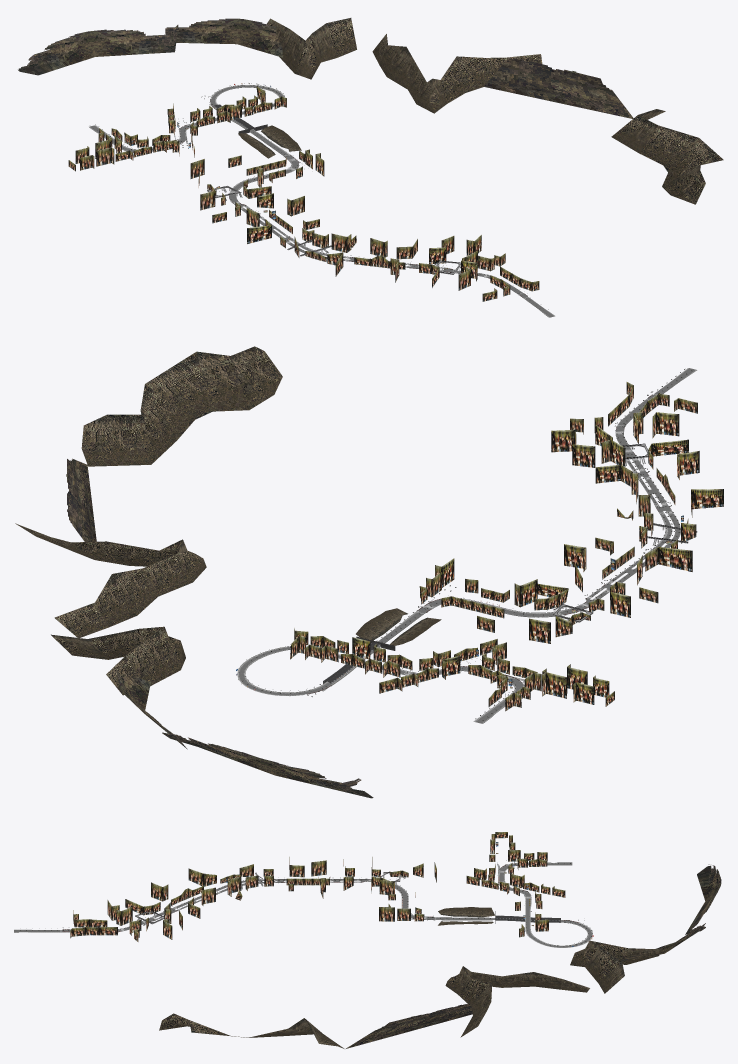
File: stage-lasv-env.glb
The picture shows the model from 3 angles, top to bottom: view 1: azimuth 30°, elevation 25°; view 2: azimuth 150°, elevation 25°; view 3: azimuth 270°, elevation 25°; orthographic projection. The views are drawn at different scales.
Visible parts, largest first — view 1: env part 1 chunk 4,-5, env part 1 chunk 3,-9, env part 1 chunk 4,-7, env part 1 chunk -2,-12, env part 1 chunk 1,-11, env part 1 chunk 0,-12, env part 3 chunk -3,-9, env part 3 chunk -1,-3, env part 3 chunk -2,-4, env part 3 chunk -1,-9, env part 3 chunk -4,-9, env part 3 chunk -2,-7 (+8 smaller); view 2: env part 1 chunk 4,-5, env part 1 chunk 3,-9, env part 1 chunk 1,-11, env part 3 chunk -2,-7, env part 3 chunk -1,-3, env part 1 chunk -2,-12, env part 3 chunk -1,-9, env part 1 chunk 4,-7, env part 3 chunk -3,-9, env part 3 chunk -4,-9, env part 3 chunk -2,-9, env part 3 chunk -1,-2 (+11 smaller); view 3: env part 1 chunk 3,-9, env part 1 chunk 1,-11, env part 1 chunk 4,-7, env part 1 chunk 4,-5, env part 1 chunk -2,-12, env part 3 chunk -2,-4, env part 3 chunk -1,-2, env part 1 chunk -1,-8, env part 3 chunk -3,-9, env part 3 chunk -1,-3, env part 3 chunk -2,-9, env part 3 chunk -2,-3 (+7 smaller).
Part boxes in pixels (<box>): env part 1 chunk 4,-5: <box>611,109,723,204</box>; env part 1 chunk 3,-9: <box>372,34,542,113</box>; env part 1 chunk 4,-7: <box>484,58,633,118</box>; env part 1 chunk -2,-12: <box>18,25,178,75</box>; env part 1 chunk 1,-11: <box>267,18,356,79</box>; env part 1 chunk 0,-12: <box>165,18,282,57</box>; env part 3 chunk -3,-9: <box>106,128,176,161</box>; env part 3 chunk -1,-3: <box>403,236,477,287</box>; env part 3 chunk -2,-4: <box>312,233,387,276</box>; env part 3 chunk -1,-9: <box>203,95,272,134</box>; env part 3 chunk -4,-9: <box>68,137,114,171</box>; env part 3 chunk -2,-7: <box>241,157,286,198</box>; env part 1 chunk 4,-5: <box>81,346,282,466</box>; env part 1 chunk 3,-9: <box>15,523,206,637</box>; env part 1 chunk 1,-11: <box>51,626,185,695</box>; env part 3 chunk -2,-7: <box>441,579,568,618</box>; env part 3 chunk -1,-3: <box>572,424,688,479</box>; env part 1 chunk -2,-12: <box>162,732,373,798</box>; env part 3 chunk -1,-9: <box>305,636,387,674</box>; env part 1 chunk 4,-7: <box>66,458,98,560</box>; env part 3 chunk -3,-9: <box>468,653,546,706</box>; env part 3 chunk -4,-9: <box>542,664,614,706</box>; env part 3 chunk -2,-9: <box>382,647,481,682</box>; env part 3 chunk -1,-2: <box>615,393,697,443</box>; env part 1 chunk 3,-9: <box>445,966,589,1037</box>; env part 1 chunk 1,-11: <box>570,940,660,993</box>; env part 1 chunk 4,-7: <box>346,1003,472,1048</box>; env part 1 chunk 4,-5: <box>159,1013,344,1048</box>; env part 1 chunk -2,-12: <box>685,864,721,934</box>; env part 3 chunk -2,-4: <box>188,868,242,905</box>; env part 3 chunk -1,-2: <box>73,900,132,932</box>; env part 1 chunk -1,-8: <box>438,907,494,925</box>; env part 3 chunk -3,-9: <box>488,850,547,881</box>; env part 3 chunk -1,-3: <box>125,899,182,931</box>; env part 3 chunk -2,-9: <box>481,873,541,902</box>; env part 3 chunk -2,-3: <box>151,882,203,905</box>.
Size of the model in its own units: 2628 by 161 by 3642.
34 materials, 33 textured.
